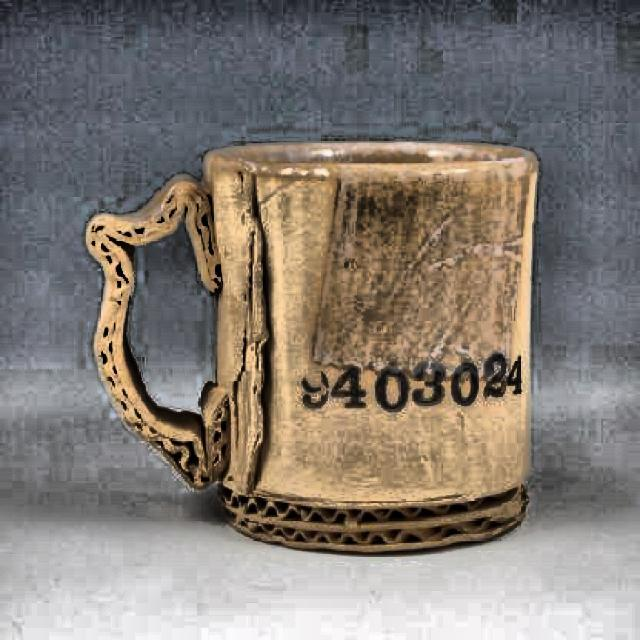Cardbox: (78, 116, 561, 566)
